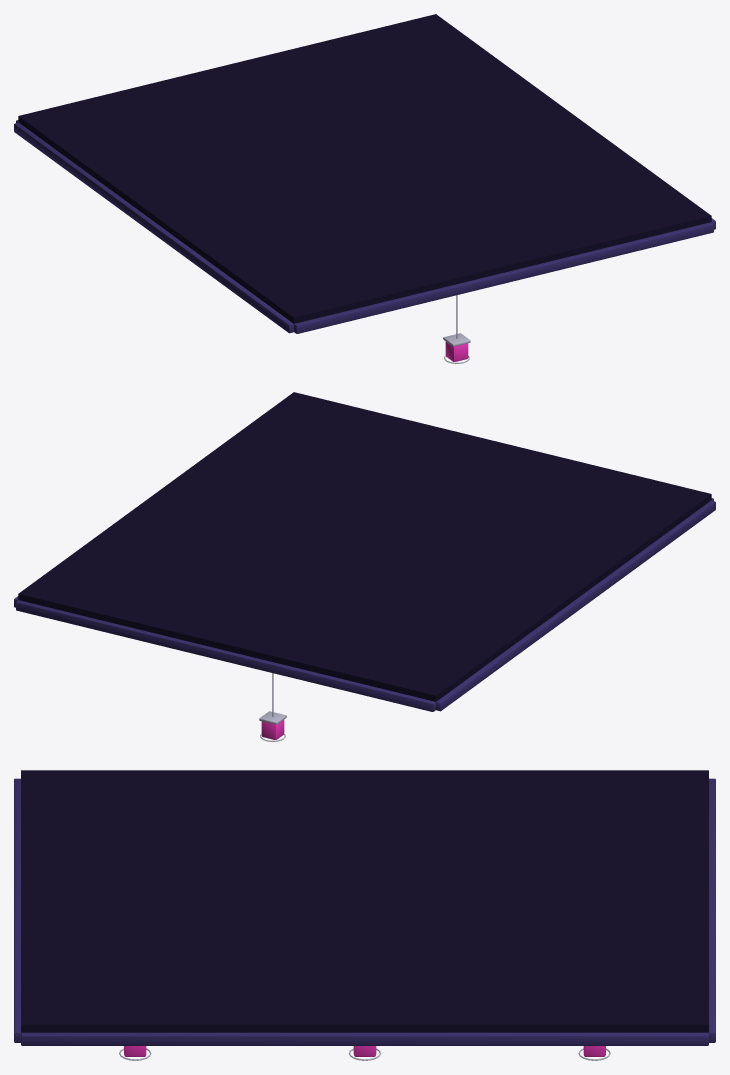
Rendered from CeilingPixel.fbx.
3 renders of one model, top to bottom at view 1: azimuth 30°, elevation 25°; view 2: azimuth 150°, elevation 25°; view 3: azimuth 270°, elevation 25°, orthographic. The views are drawn at different scales.
Visible parts, largest first — view 1: CeilingPixel; view 2: CeilingPixel; view 3: CeilingPixel.
Part boxes in pixels (x1,y1,x2,y2): CeilingPixel: [14, 14, 715, 363]; CeilingPixel: [14, 392, 715, 741]; CeilingPixel: [14, 770, 715, 1060].
Bounding box in the file's own units: 7160 × 2020 × 8160.
